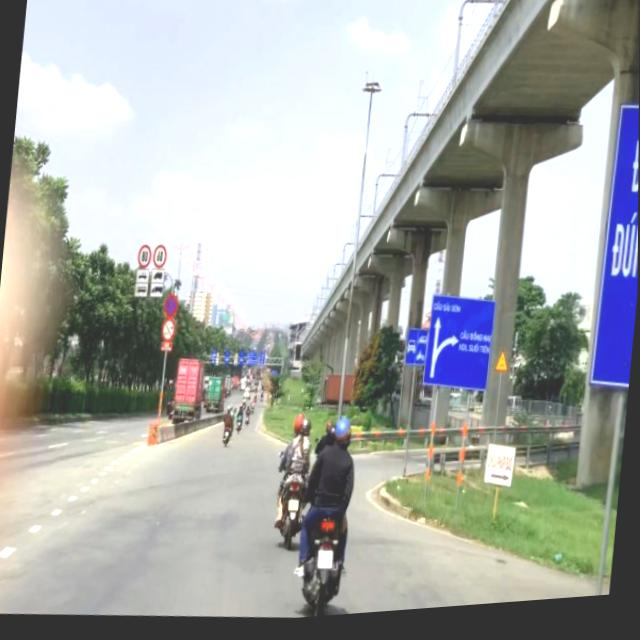Cam dung xe va do xe: (163, 294, 179, 321)
Di cham: (494, 355, 510, 382)
Toc do toi da cho phep: (136, 244, 153, 272), (152, 244, 169, 272)
